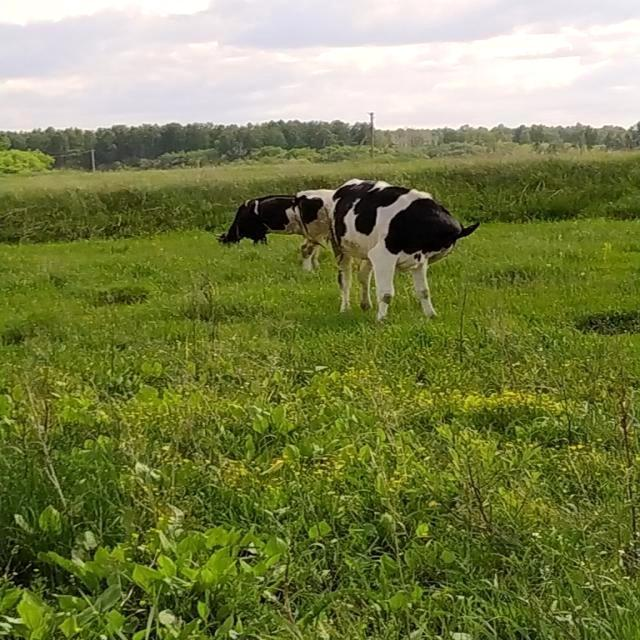COW: (331, 179, 479, 321)
